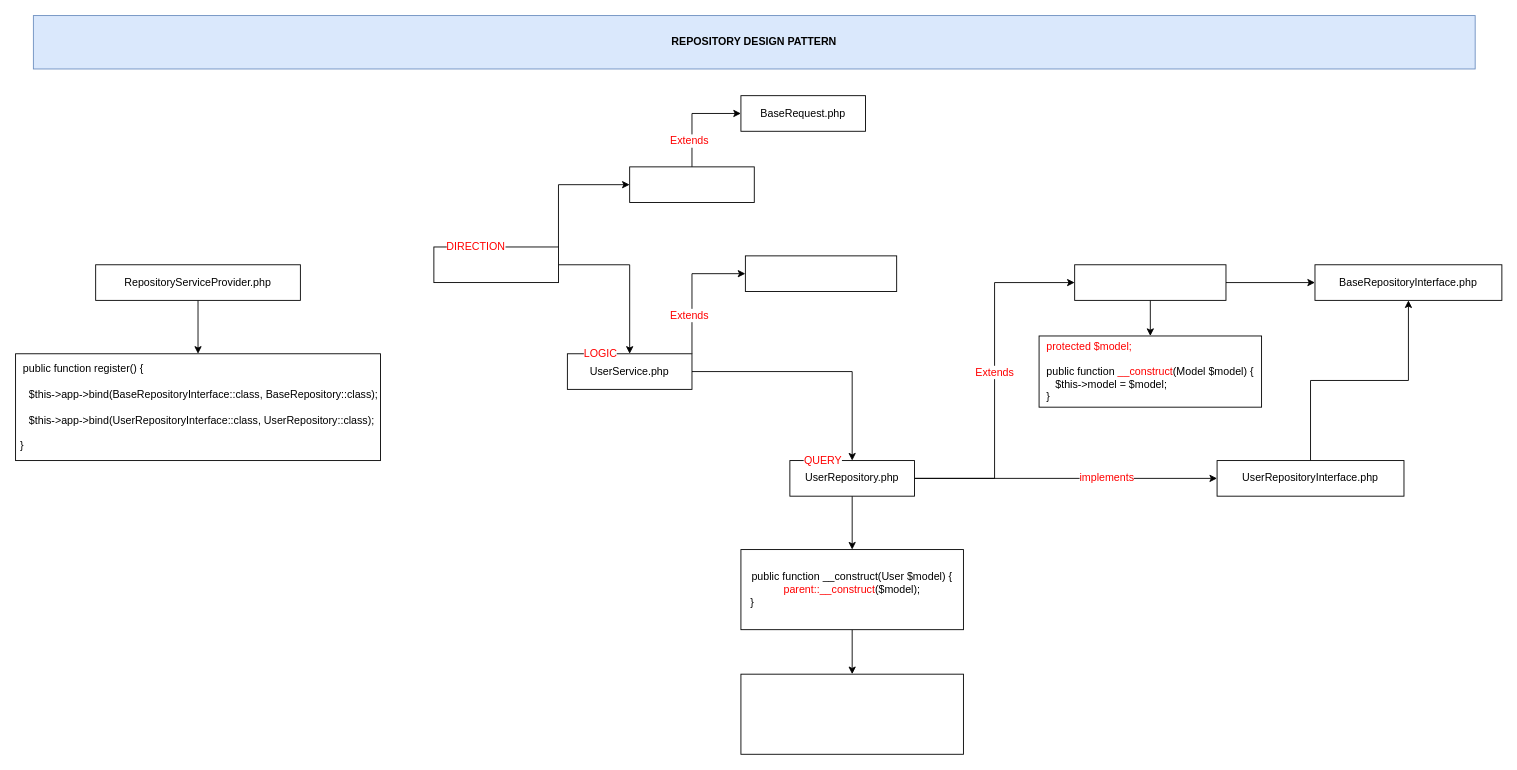
Image size: 1517x770. Some labels were removed from this diagram. Each missing label, with the box of its shape:
BaseRepository.php: (1074, 264, 1226, 300)
BaseService.php: (744, 255, 897, 291)
FormRequest.php: (629, 166, 754, 202)
public function all(): Collection { return $this->model ->all(); }: (740, 673, 963, 754)
UserController.php: (433, 246, 558, 283)
